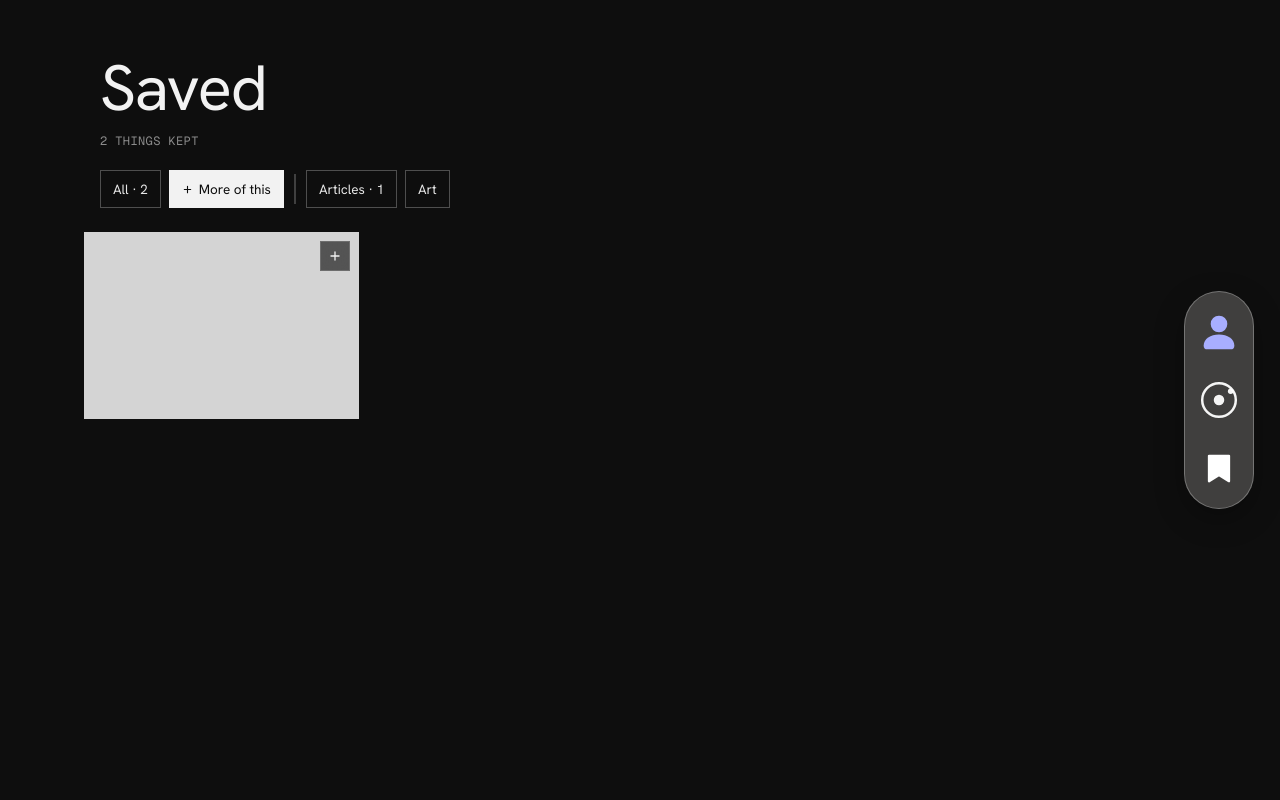
it: SavedScreen › the More of this shelf › undoes from the badge: Undo More of this label, optimistic filter, Undone toast
This screenshot has width=1280, height=800.
Click the button named "Undo More of this": (335,256) [320,241,350,271]
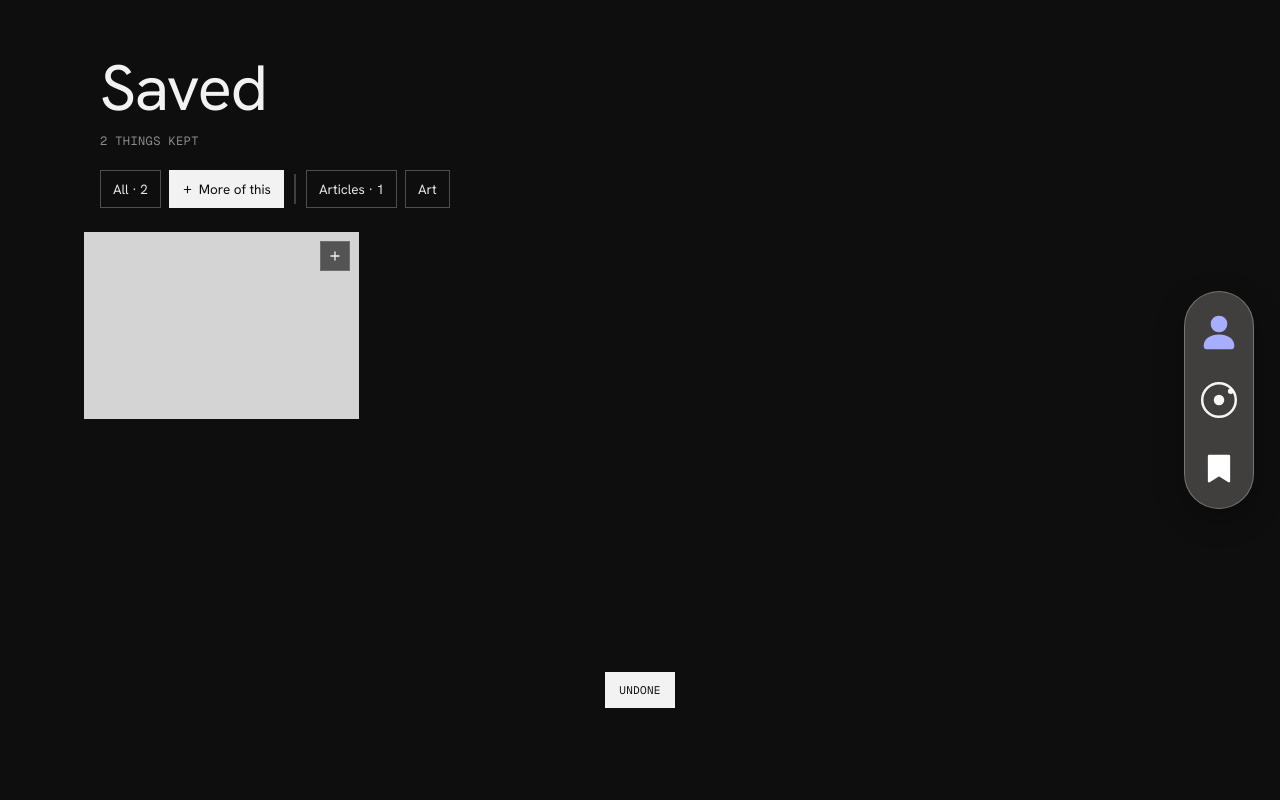
Expected: the text "Undone" is shown, [605,672,675,708]
